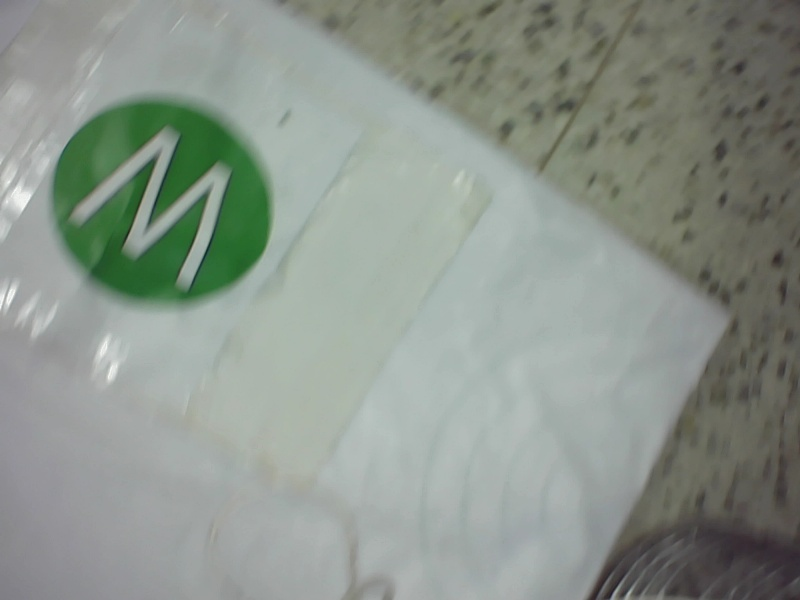areaB: (46, 89, 274, 306)
